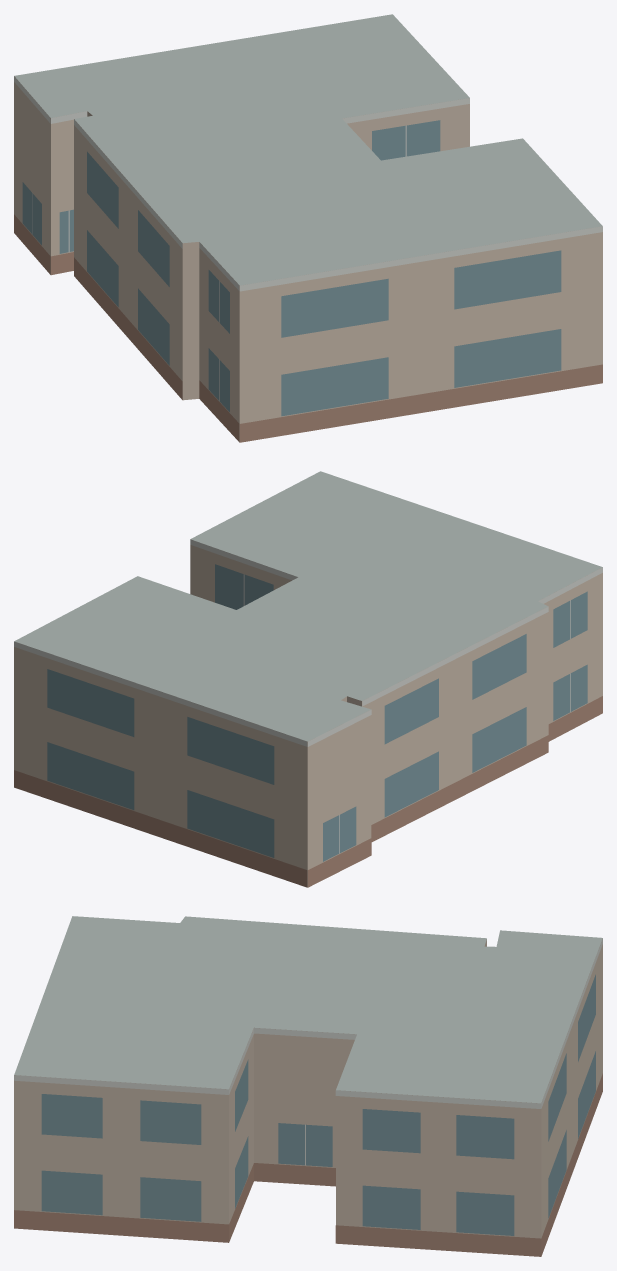
File: survey-upis-32692279.glb
The picture shows the model from 3 angles, top to bottom: view 1: azimuth 30°, elevation 25°; view 2: azimuth 150°, elevation 25°; view 3: azimuth 270°, elevation 25°; orthographic projection. The views are drawn at different scales.
Parts seen in each view (by area): view 1: survey-upis-32692279.tmp; view 2: survey-upis-32692279.tmp; view 3: survey-upis-32692279.tmp.
Part boxes in pixels (box(x1,y1,x2,y2)): survey-upis-32692279.tmp: box(14, 14, 602, 442); survey-upis-32692279.tmp: box(14, 471, 602, 887); survey-upis-32692279.tmp: box(14, 916, 602, 1256).
Bounding box in the file's own units: 17.03 × 6.5 × 22.61.
